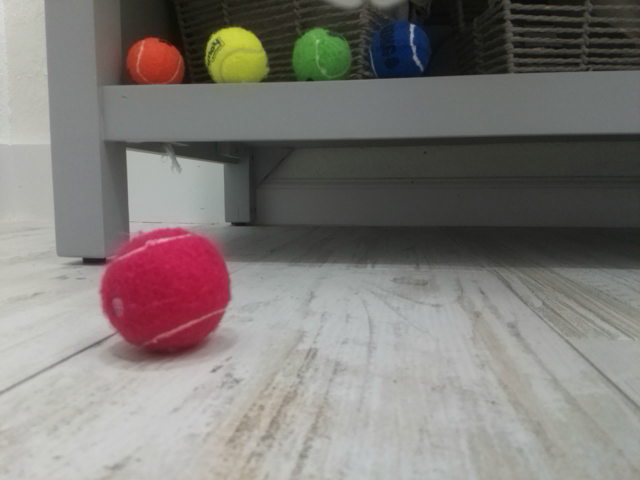blue-ball: (365, 19, 430, 81)
green-ball: (290, 26, 353, 84)
orange-ball: (125, 36, 186, 88)
red-ball: (99, 226, 233, 356)
yellow-ball: (203, 25, 269, 85)
